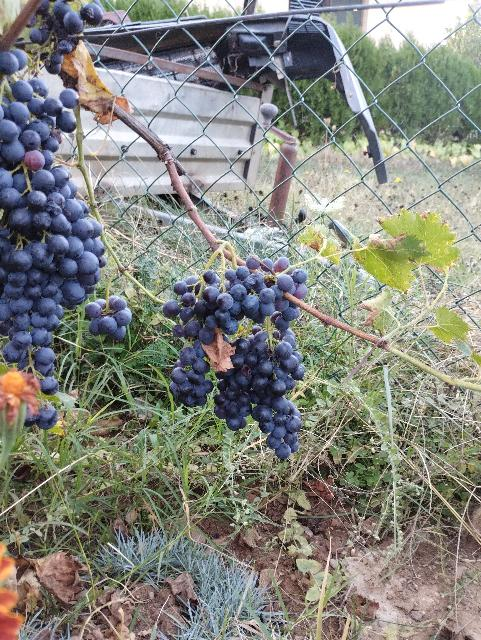grapes: (0, 78, 105, 392), (215, 325, 306, 459), (162, 270, 220, 408), (225, 261, 282, 309), (225, 266, 275, 319), (221, 294, 239, 334), (225, 305, 240, 318)
